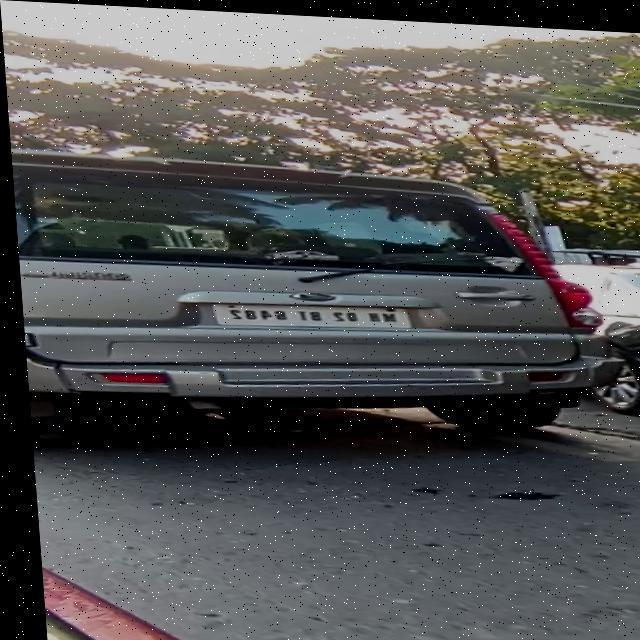plate: (193, 289, 424, 337)
